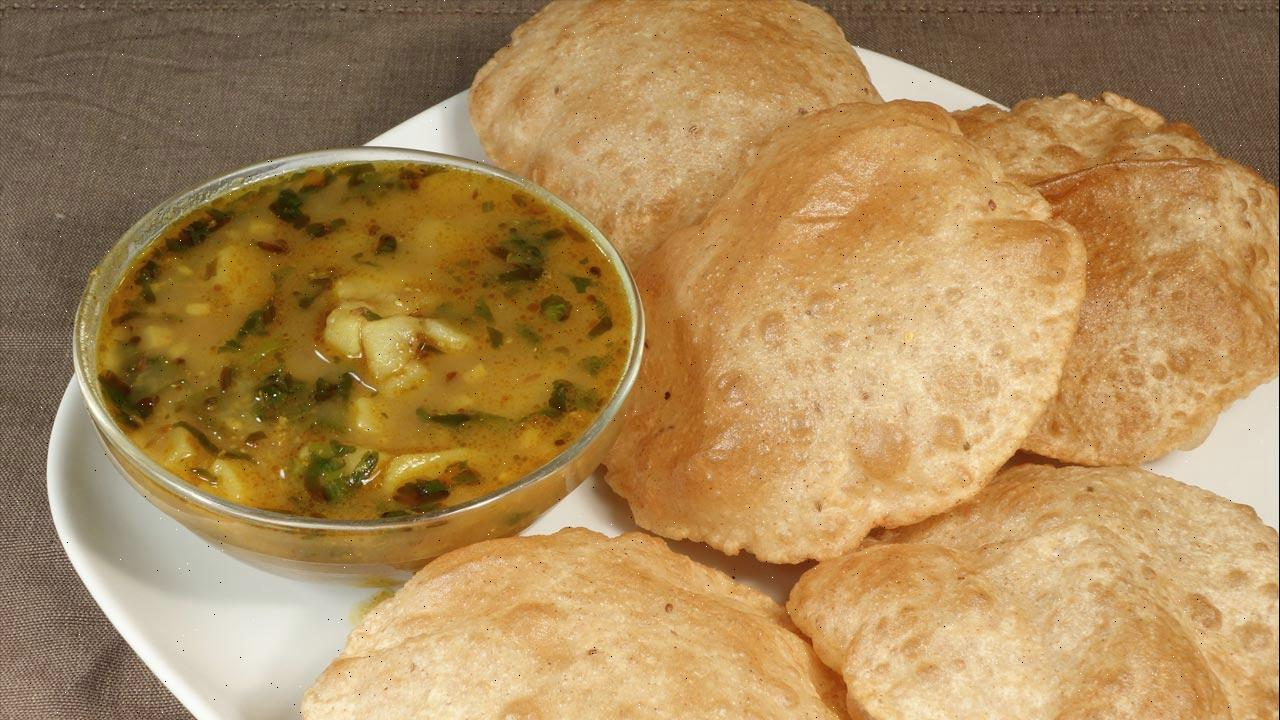puri: (636, 0, 1280, 720)
